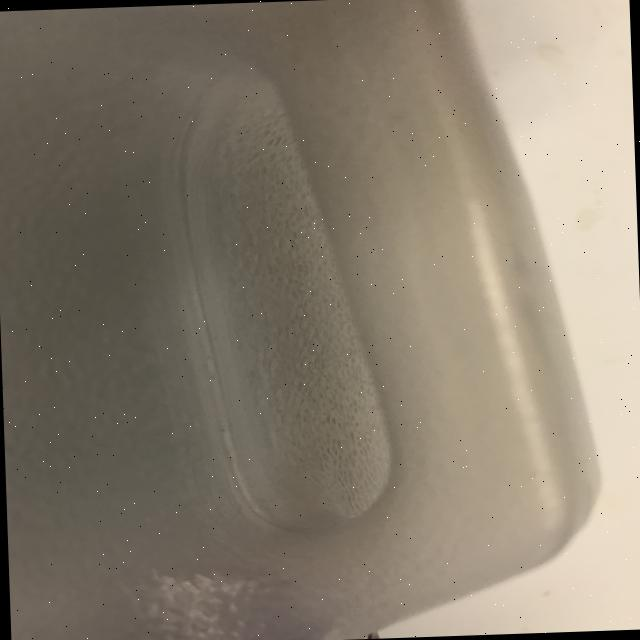plastic: (171, 58, 396, 536)
